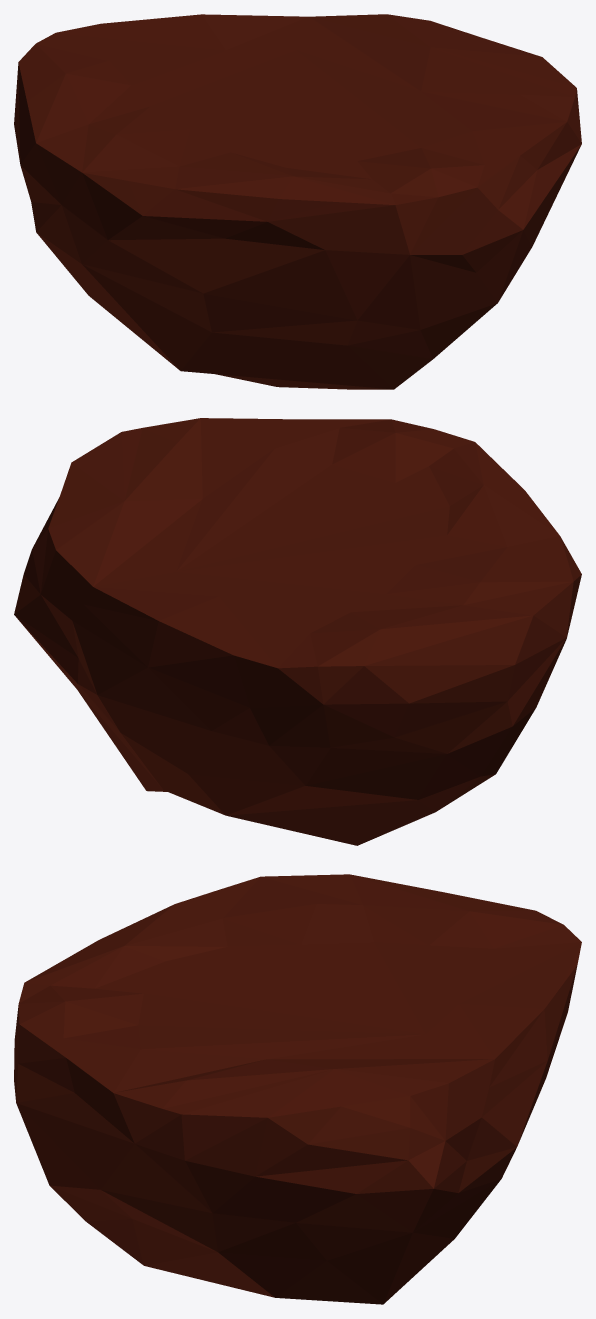
The model's file is rocher_island_2.FBX.
3 views of the same model, one above another, from view 1: azimuth 30°, elevation 25°; view 2: azimuth 150°, elevation 25°; view 3: azimuth 270°, elevation 25° (orthographic). The views are drawn at different scales.
Visible parts, largest first — view 1: GeoSphere5; view 2: GeoSphere5; view 3: GeoSphere5.
Boxes of the visible parts, bbox=[...] form: GeoSphere5: bbox=[14, 14, 581, 389]; GeoSphere5: bbox=[14, 418, 581, 845]; GeoSphere5: bbox=[14, 874, 581, 1304].
Bounding box in the file's own units: 570 × 305 × 559.
